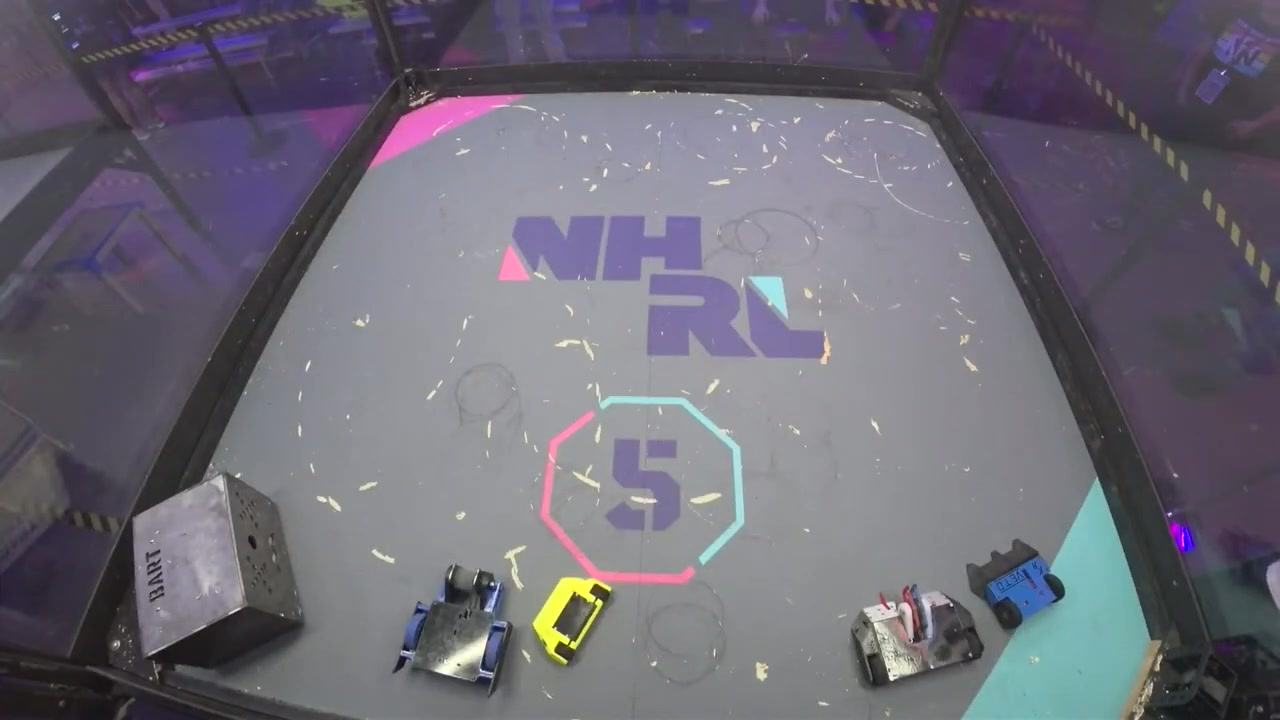combatbot: (393, 565, 513, 694), (850, 585, 986, 684)
housebot: (129, 472, 306, 667)
minibot: (965, 537, 1068, 633), (530, 577, 618, 665)
